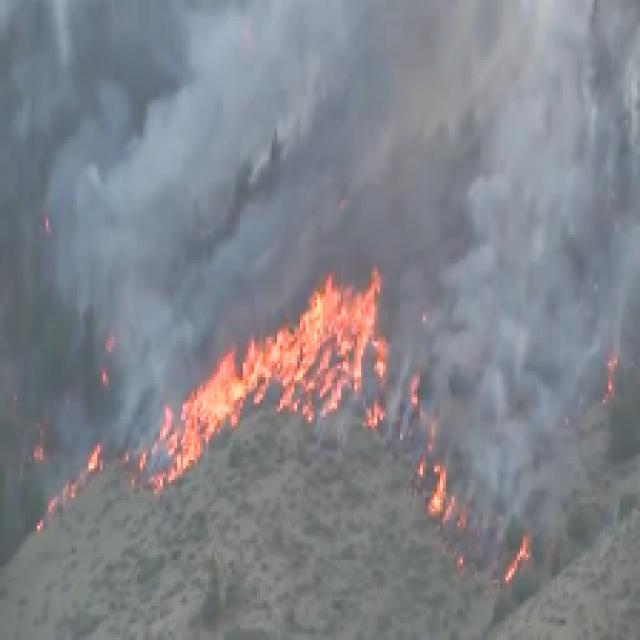Fire: (214, 337, 370, 401)
Smoke: (136, 26, 607, 326)
